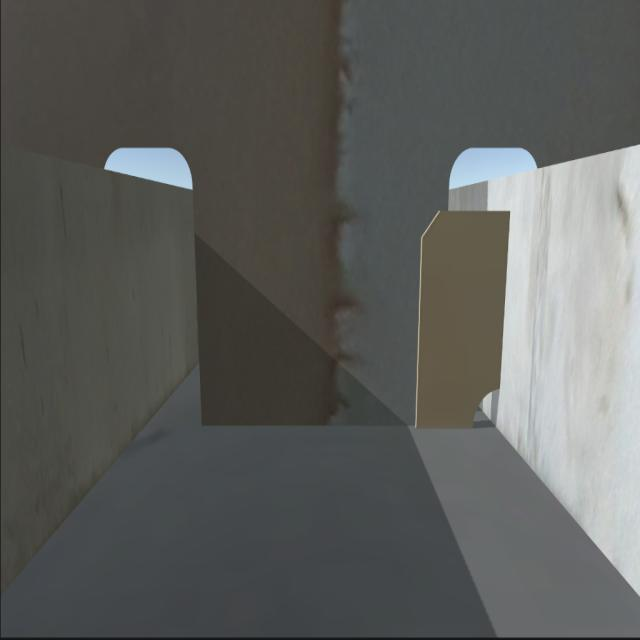fillet_hole: (466, 388, 504, 431)
fillet_yong_jeop_jang: (202, 418, 470, 433)
longi_yong_jeop_jang: (498, 211, 510, 391)
plate_CP03: (413, 201, 507, 426)
